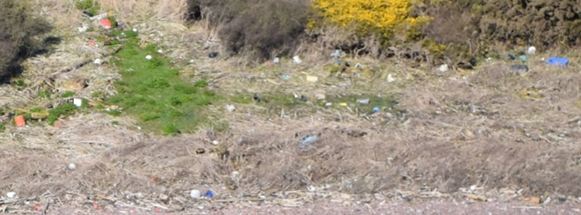scattered_barrel: (205, 44, 403, 117), (64, 5, 171, 68), (431, 45, 575, 85), (4, 92, 89, 138)
together_barrel: (3, 175, 577, 215)
white_in_green: (279, 112, 337, 164), (171, 127, 231, 172)
